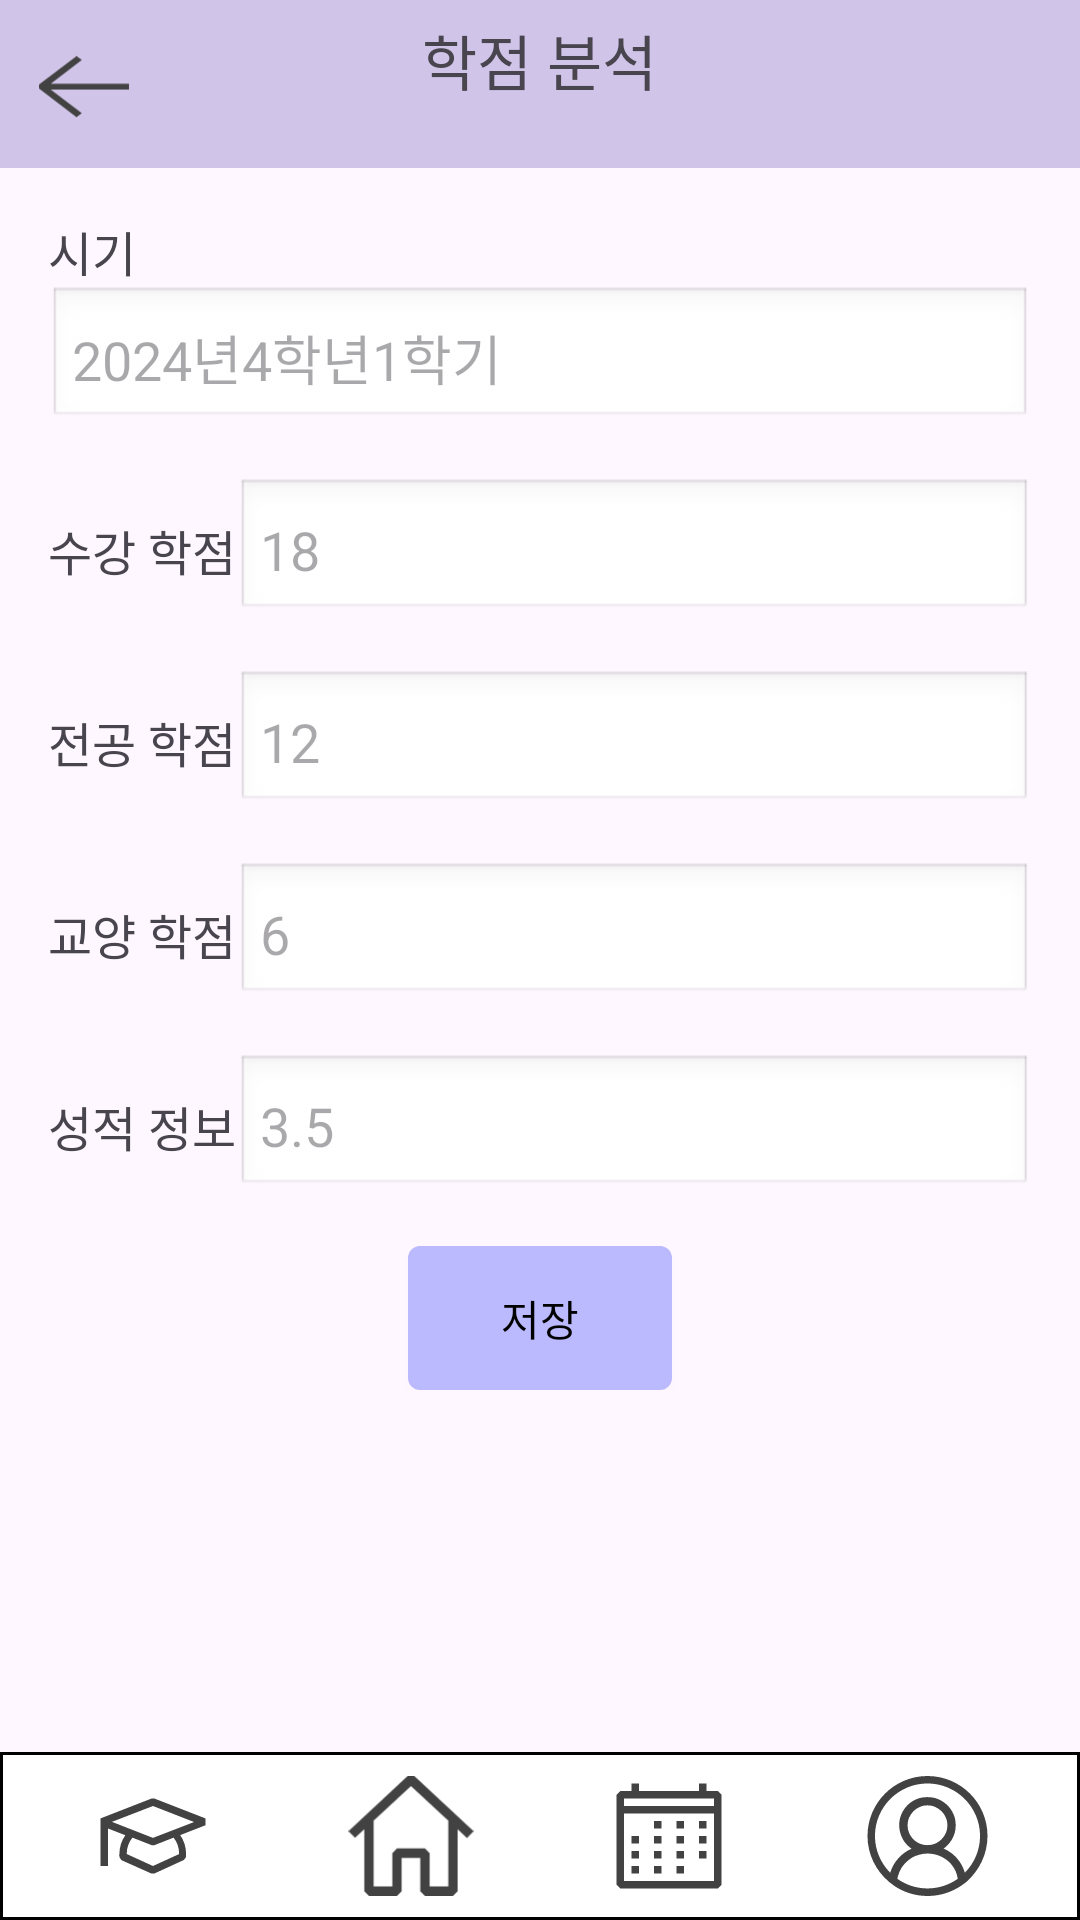

Named icons in this screenshot (1080px×1920px) and their centers, point (x, y):
back: point (84, 87)
home: point (411, 1836)
plan: point (669, 1836)
profile: point (927, 1836)
score: point (153, 1836)
